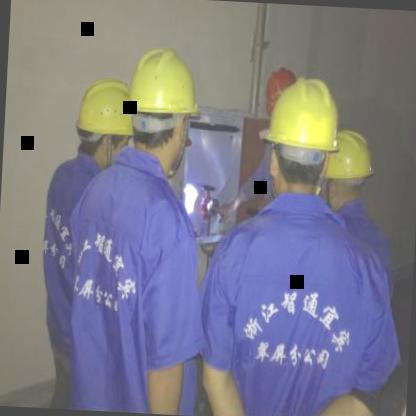helmet: (254, 70, 343, 197), (122, 43, 206, 170), (72, 71, 138, 174), (316, 126, 378, 209)
